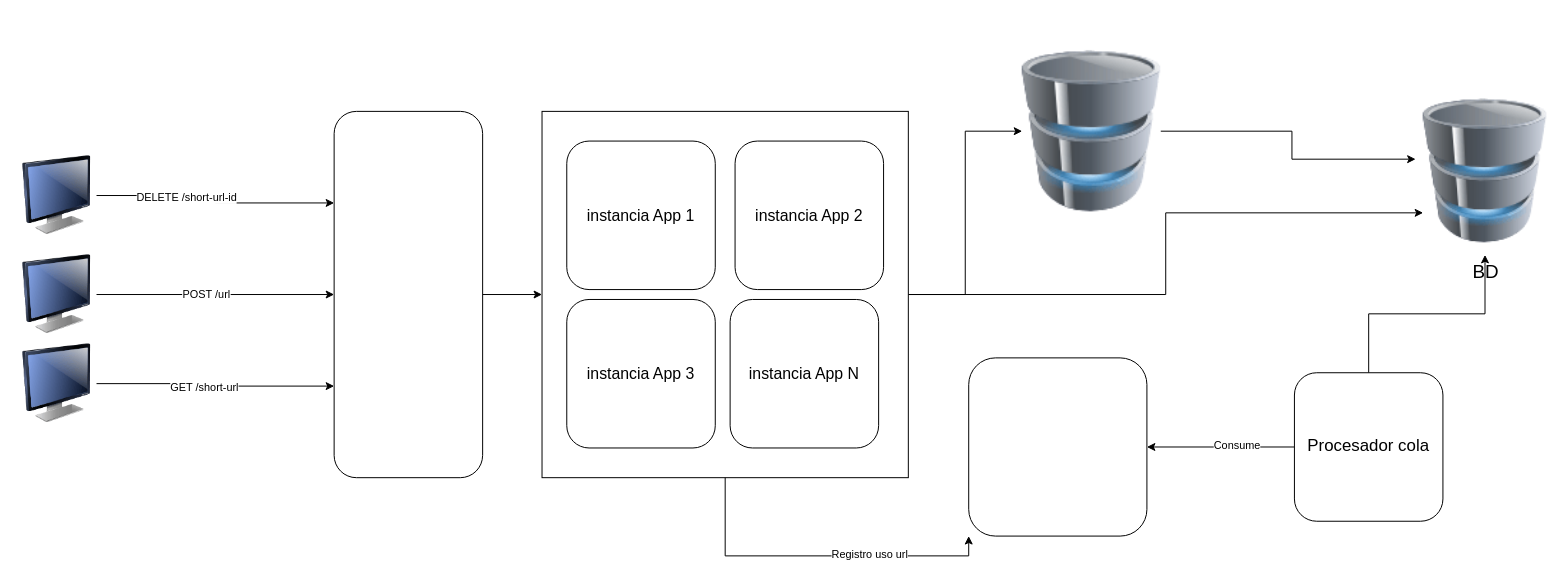
Image size: 1563x581. Some labels were removed from this diagram. The centre of each missing label's shape, as x and y in pixels:
Caché: the point at 1091,131
Cola: the point at 1057,446
load balancer -NGINX: the point at 408,294
